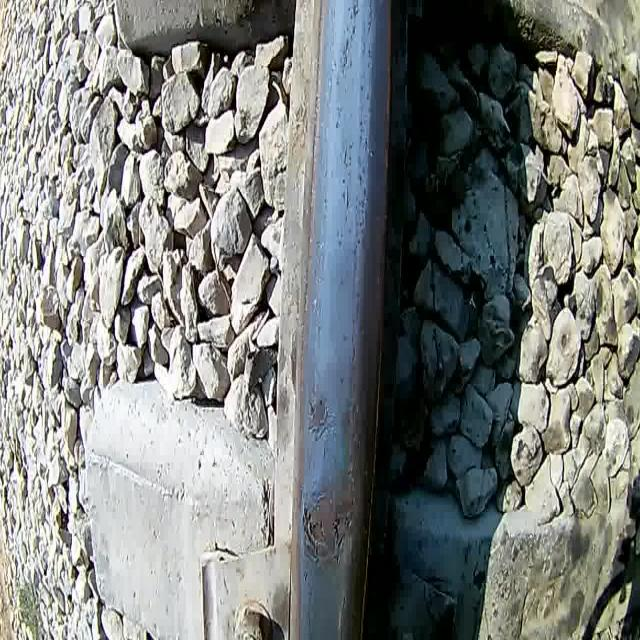Cracks: (307, 405, 338, 439)
Spallings: (297, 494, 328, 563), (328, 506, 356, 571)
Squats: (296, 468, 364, 579), (300, 384, 337, 442)
